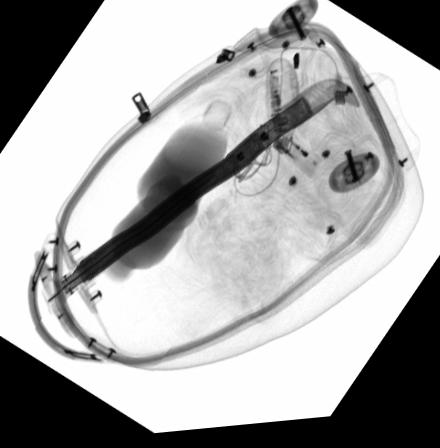Lighter: (271, 134, 323, 183)
